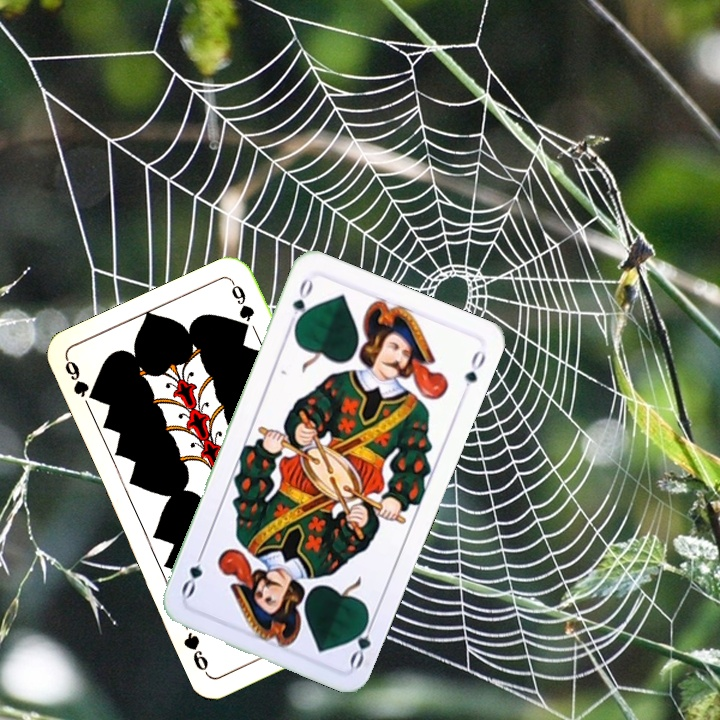G9: (60, 355, 98, 403)
GO: (345, 611, 378, 671), (284, 274, 316, 332)
